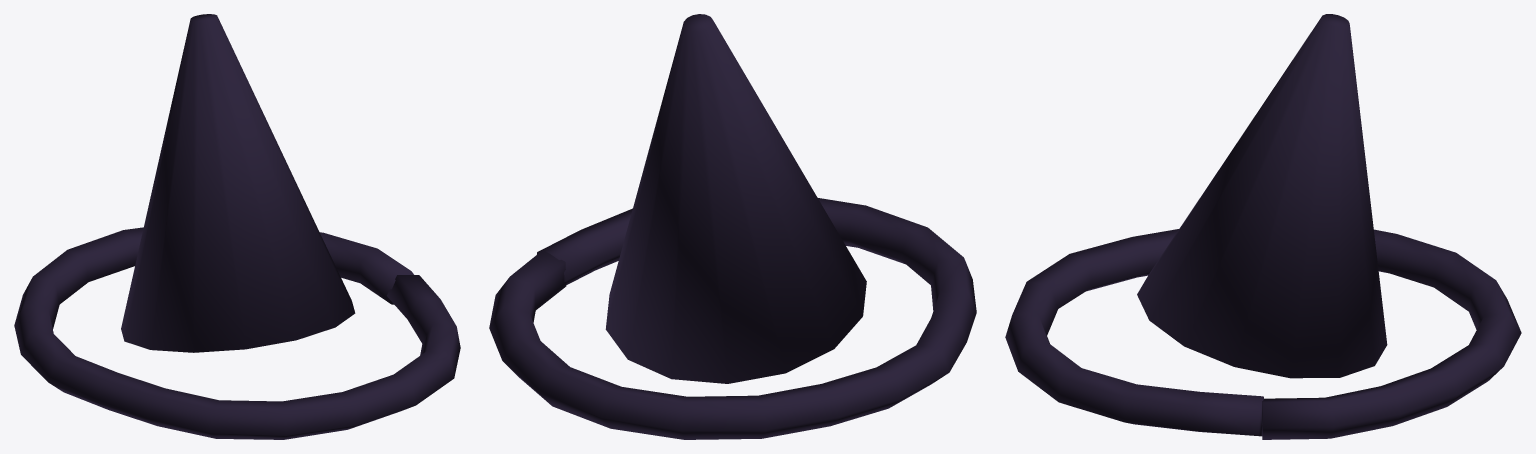
File: witch_costume_head.glb
3 views of the same model, side by side, from view 1: azimuth 30°, elevation 25°; view 2: azimuth 150°, elevation 25°; view 3: azimuth 270°, elevation 25° (orthographic). The views are drawn at different scales.
Visible parts, largest first — view 1: witch_costume_head; view 2: witch_costume_head; view 3: witch_costume_head.
Boxes of the visible parts, left/top/right/bottom form: witch_costume_head: left=14, top=14, right=460, bottom=439; witch_costume_head: left=489, top=14, right=976, bottom=439; witch_costume_head: left=1005, top=14, right=1521, bottom=439.
Size of the model in its own units: 0.3815 by 0.3005 by 0.4229.
